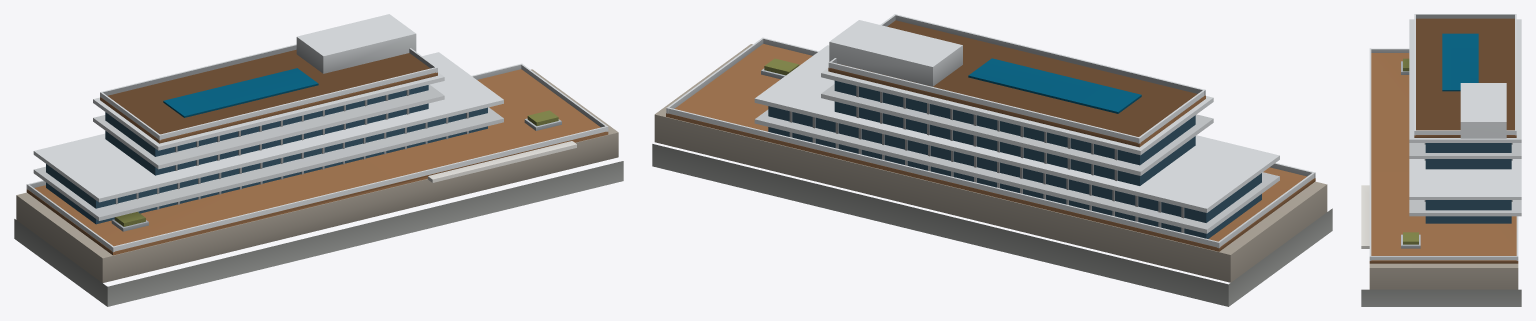
Rendered from hotel-low.glb.
The picture shows the model from 3 angles, left to right: view 1: azimuth 30°, elevation 25°; view 2: azimuth 150°, elevation 25°; view 3: azimuth 270°, elevation 25°; orthographic projection. The views are drawn at different scales.
Parts seen in each view (by area): view 1: hotel-low; view 2: hotel-low; view 3: hotel-low.
Boxes of the visible parts, x1,y1,x2,y2 form: hotel-low: (14,14,623,306); hotel-low: (652,14,1332,306); hotel-low: (1361,14,1521,306).
Bounding box in the file's own units: 80 × 21 × 25.
